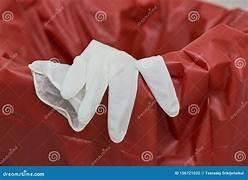Glove: (29, 40, 178, 142)
